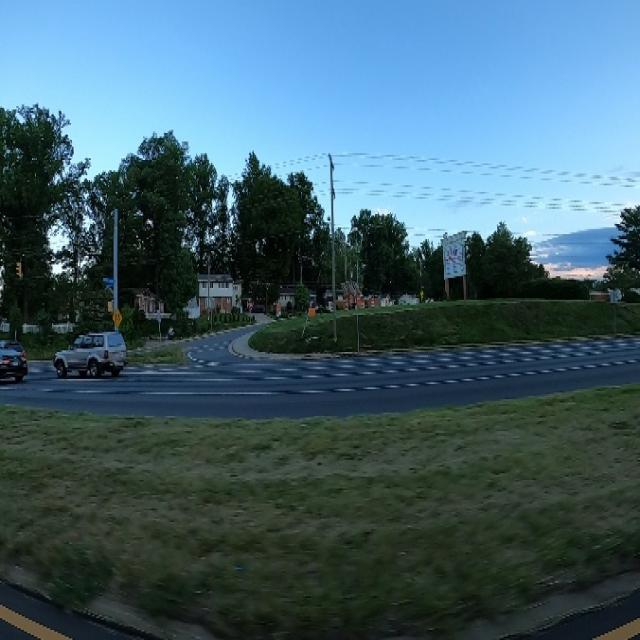car: (52, 317, 128, 387), (0, 337, 30, 391)
